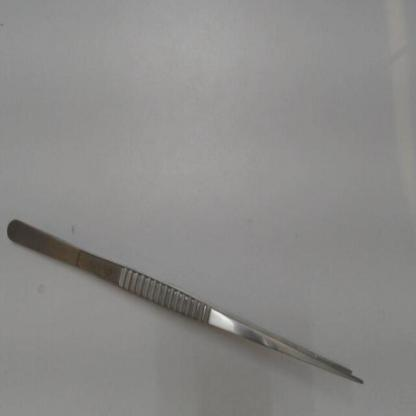DeBakey Dissector: (3, 209, 382, 405)
